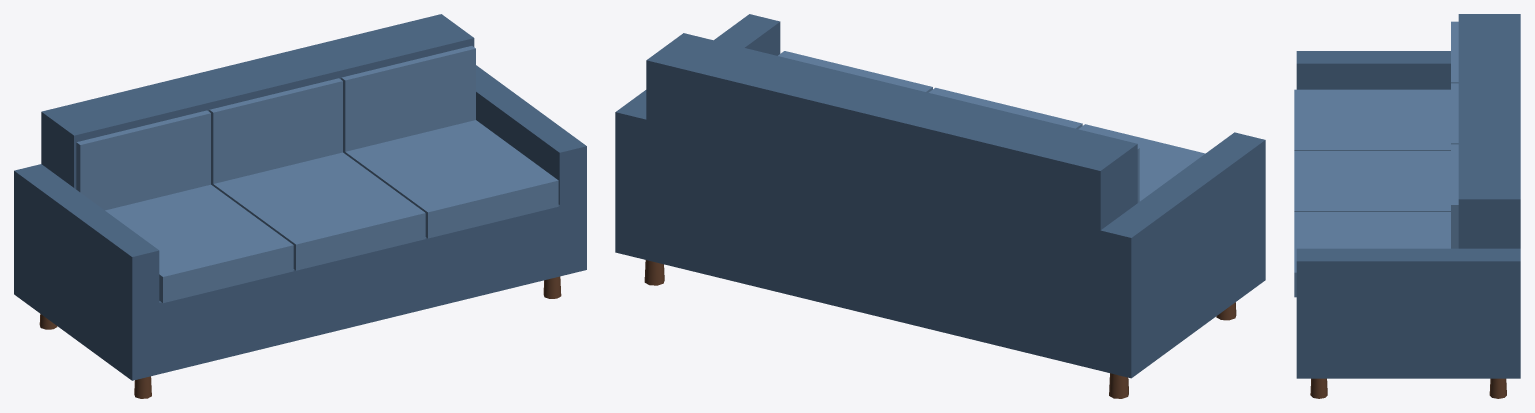
Rendered from sofa.glb.
The picture shows the model from 3 angles, left to right: view 1: azimuth 30°, elevation 25°; view 2: azimuth 150°, elevation 25°; view 3: azimuth 270°, elevation 25°; orthographic projection. The views are drawn at different scales.
Visible parts, largest first — view 1: Corpo, Almofadas, Pes; view 2: Corpo, Almofadas, Pes; view 3: Corpo, Almofadas, Pes.
Part boxes in pixels (x1=…): Corpo: x1=14, y1=14, x2=586, y2=380; Almofadas: x1=76, y1=46, x2=558, y2=302; Pes: x1=39, y1=276, x2=561, y2=398; Corpo: x1=615, y1=14, x2=1265, y2=378; Almofadas: x1=778, y1=51, x2=1205, y2=202; Pes: x1=644, y1=260, x2=1236, y2=398; Corpo: x1=1296, y1=14, x2=1520, y2=378; Almofadas: x1=1294, y1=21, x2=1458, y2=297; Pes: x1=1310, y1=378, x2=1506, y2=398.
Size of the model in its own units: 2 by 0.86 by 0.91.
